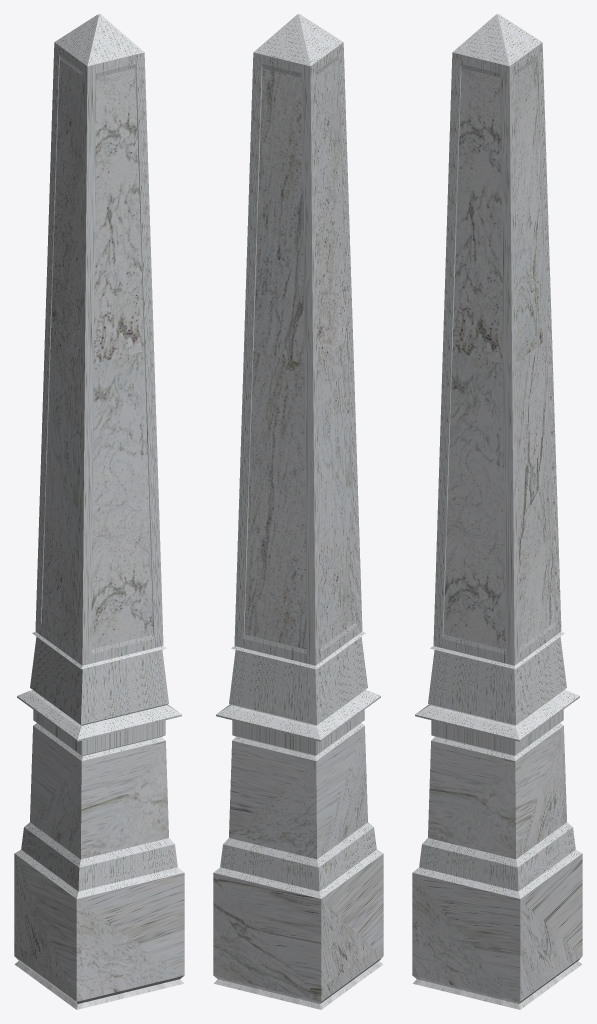
The model's file is Obelisk.fbx.
3 renders of one model, left to right at view 1: azimuth 30°, elevation 25°; view 2: azimuth 150°, elevation 25°; view 3: azimuth 330°, elevation 25°, orthographic.
Parts seen in each view (by area): view 1: Obelisk; view 2: Obelisk; view 3: Obelisk.
Boxes of the visible parts, box(x1,y1,x2,y2) form: Obelisk: box(14, 14, 184, 1009); Obelisk: box(213, 14, 383, 1009); Obelisk: box(412, 14, 582, 1009).
Size of the model in its own units: 610 by 5179 by 610.
